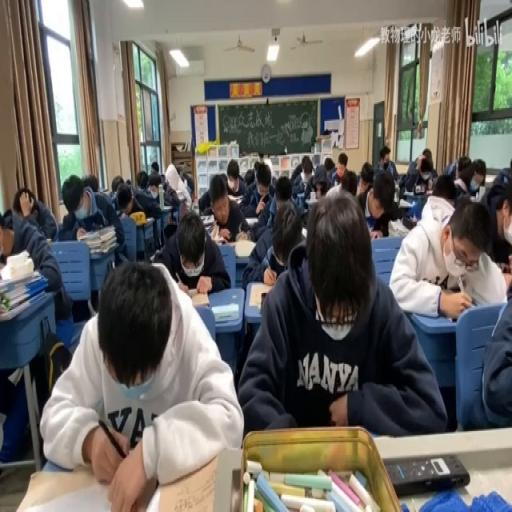calculator: (145, 452, 221, 511), (12, 465, 109, 511), (248, 282, 274, 308), (210, 300, 238, 322), (208, 223, 234, 243), (387, 216, 411, 236), (234, 238, 256, 256), (7, 364, 24, 386), (189, 292, 209, 307), (202, 216, 214, 235), (134, 215, 154, 226), (403, 189, 421, 201), (242, 214, 258, 224), (475, 184, 485, 200), (483, 174, 496, 184), (306, 193, 316, 205), (159, 202, 173, 210), (398, 198, 412, 206), (118, 209, 129, 218), (296, 192, 306, 201), (301, 226, 307, 239), (98, 185, 107, 192), (45, 236, 51, 242)
paper: (40, 259, 242, 512), (238, 192, 442, 438), (1, 192, 69, 323), (462, 270, 510, 430), (56, 174, 124, 270), (154, 204, 228, 292), (479, 165, 512, 262), (130, 175, 166, 252), (250, 168, 282, 234), (399, 148, 438, 195), (198, 168, 224, 215), (354, 162, 376, 213), (304, 162, 330, 202), (222, 157, 246, 199), (373, 144, 398, 182), (159, 169, 182, 206), (431, 174, 457, 200), (13, 186, 36, 215), (54, 287, 74, 320), (330, 151, 348, 186), (470, 161, 485, 189), (290, 158, 304, 182), (82, 172, 98, 192), (0, 206, 13, 229), (444, 159, 458, 179), (183, 174, 194, 199), (110, 174, 125, 192), (136, 170, 149, 190), (457, 154, 470, 172), (323, 155, 335, 174), (178, 198, 187, 219), (326, 182, 340, 195), (245, 166, 254, 184), (150, 160, 158, 174), (256, 151, 266, 162), (252, 161, 259, 176), (302, 162, 310, 175), (509, 156, 512, 174), (125, 178, 131, 185)
person: (384, 452, 468, 495)
